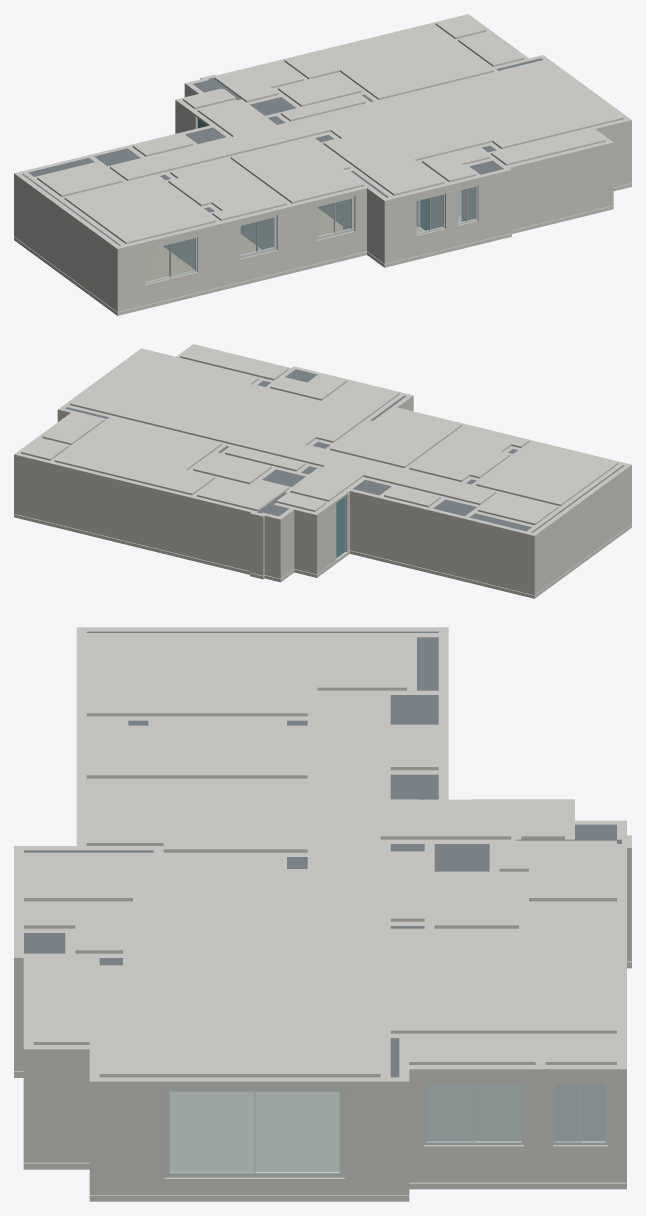
The model's file is acro168c-expanded-archisketch.glb.
3 renders of one model, top to bottom at view 1: azimuth 30°, elevation 25°; view 2: azimuth 150°, elevation 25°; view 3: azimuth 270°, elevation 25°, orthographic. The views are drawn at different scales.
Visible parts, largest first — view 1: Ceiling/04, Wall/layer-07/00, Wall/layer-01/00, Ceiling/09, Wall/layer-00/00, Ceiling/05, Wall/layer-03/05, Ceiling/07, Wall/layer-03/00, Ceiling/06, Base/00, Wall/layer-03/03 (+29 smaller); view 2: Ceiling/04, Wall/layer-03/08, Wall/layer-07/00, Wall/layer-03/00, Ceiling/09, Wall/layer-00/00, Ceiling/05, Ceiling/07, Wall/layer-01/01, Ceiling/06, Wall/layer-01/00, Base/00 (+20 smaller); view 3: Ceiling/04, Wall/layer-07/00, Ceiling/09, Ceiling/05, Ceiling/07, Floor/living-kitchen-hall, Ceiling/06, Wall/layer-00/00, Wall/layer-03/05, Wall/layer-01/01, living-main-window/glass-1, living-main-window/glass-0 (+31 smaller).
Boxes of the visible parts, box(x1,y1,x2,y2) form: Ceiling/04: box(110, 60, 624, 195); Wall/layer-07/00: box(14, 14, 631, 250); Wall/layer-01/00: box(14, 163, 631, 303); Ceiling/09: box(284, 24, 493, 99); Wall/layer-00/00: box(14, 174, 631, 311); Ceiling/05: box(64, 175, 216, 244); Wall/layer-03/05: box(416, 127, 631, 218); Ceiling/07: box(230, 137, 364, 203); Wall/layer-03/00: box(14, 181, 145, 289); Ceiling/06: box(168, 158, 287, 220); Base/00: box(14, 183, 631, 315); Wall/layer-03/03: box(340, 196, 416, 241); Ceiling/04: box(70, 349, 496, 504); Wall/layer-03/08: box(14, 461, 336, 557); Wall/layer-07/00: box(14, 344, 631, 537); Wall/layer-03/00: box(346, 472, 631, 573); Ceiling/09: box(54, 417, 221, 495); Wall/layer-00/00: box(14, 505, 631, 595); Ceiling/05: box(476, 441, 618, 506); Ceiling/07: box(330, 408, 462, 467); Wall/layer-01/01: box(14, 495, 336, 570); Ceiling/06: box(409, 425, 529, 481); Wall/layer-01/00: box(346, 505, 631, 586); Base/00: box(14, 514, 631, 598); Ceiling/04: box(24, 691, 511, 1077); Wall/layer-07/00: box(14, 627, 631, 1085); Ceiling/09: box(390, 902, 616, 1033); Ceiling/05: box(86, 634, 307, 716); Ceiling/07: box(86, 779, 307, 852); Floor/living-kitchen-hall: box(169, 1091, 339, 1171); Ceiling/06: box(86, 717, 307, 778); Wall/layer-00/00: box(14, 945, 631, 1194); Wall/layer-03/05: box(14, 971, 164, 1153); Wall/layer-01/01: box(344, 925, 631, 1178); living-main-window/glass-1: box(169, 1091, 254, 1172); living-main-window/glass-0: box(255, 1091, 339, 1171).
Size of the model in its own units: 21.48 by 2.72 by 12.35.
